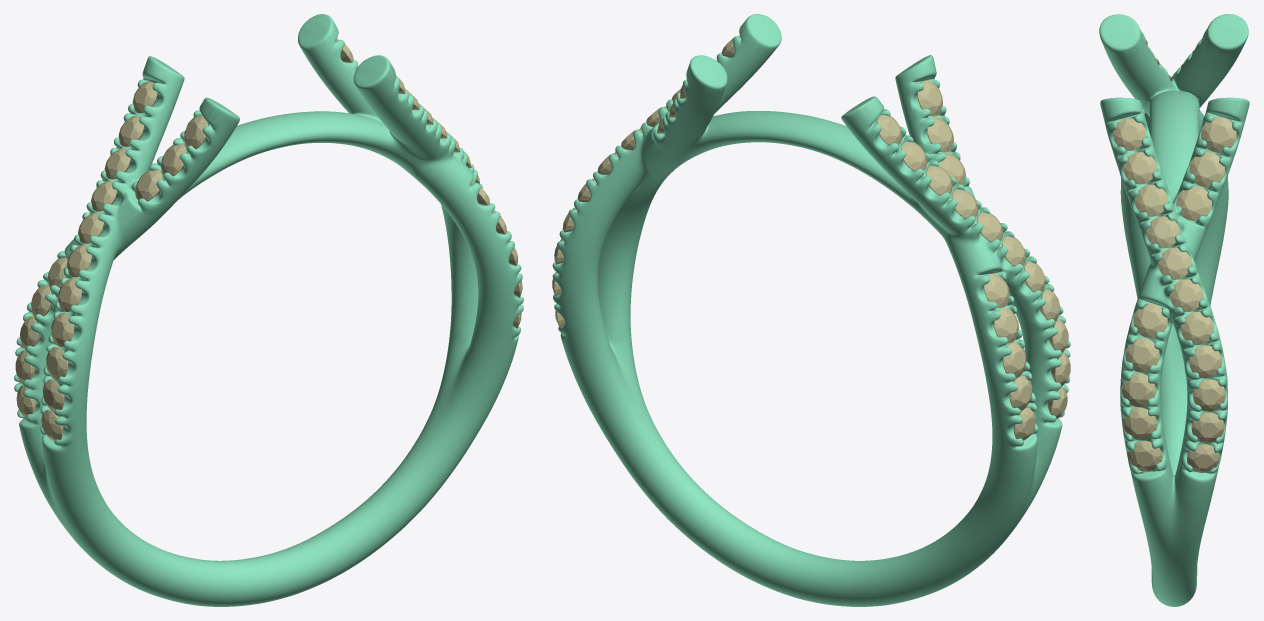
The picture shows the model from 3 angles, left to right: view 1: azimuth 30°, elevation 25°; view 2: azimuth 150°, elevation 25°; view 3: azimuth 270°, elevation 25°; orthographic projection. The views are drawn at different scales.
Visible parts, largest first — view 1: Metal02; view 2: Metal02; view 3: Metal02, Diamond_Gem.011, Diamond_Gem.012, Diamond_Gem.013, Diamond_Gem.015, Diamond_Gem.014, Diamond_Gem.016, Diamond_Gem.017, Diamond_Gem.007, Diamond_Gem, Diamond_Gem.001, Diamond_Gem.006 (+8 smaller).
Part boxes in pixels (x1,y1,x2,y2): Metal02: [14, 14, 523, 606]; Metal02: [552, 14, 1070, 606]; Metal02: [1099, 14, 1249, 606]; Diamond_Gem.011: [1201, 117, 1236, 152]; Diamond_Gem.012: [1189, 152, 1224, 187]; Diamond_Gem.013: [1176, 186, 1211, 220]; Diamond_Gem.015: [1125, 338, 1159, 372]; Diamond_Gem.014: [1133, 304, 1167, 337]; Diamond_Gem.016: [1121, 373, 1155, 406]; Diamond_Gem.017: [1123, 407, 1157, 440]; Diamond_Gem.007: [1189, 345, 1222, 378]; Diamond_Gem: [1113, 118, 1146, 150]; Diamond_Gem.001: [1123, 152, 1156, 184]; Diamond_Gem.006: [1181, 312, 1213, 344].
Size of the model in its own units: 21.06 by 22.76 by 5.89.
